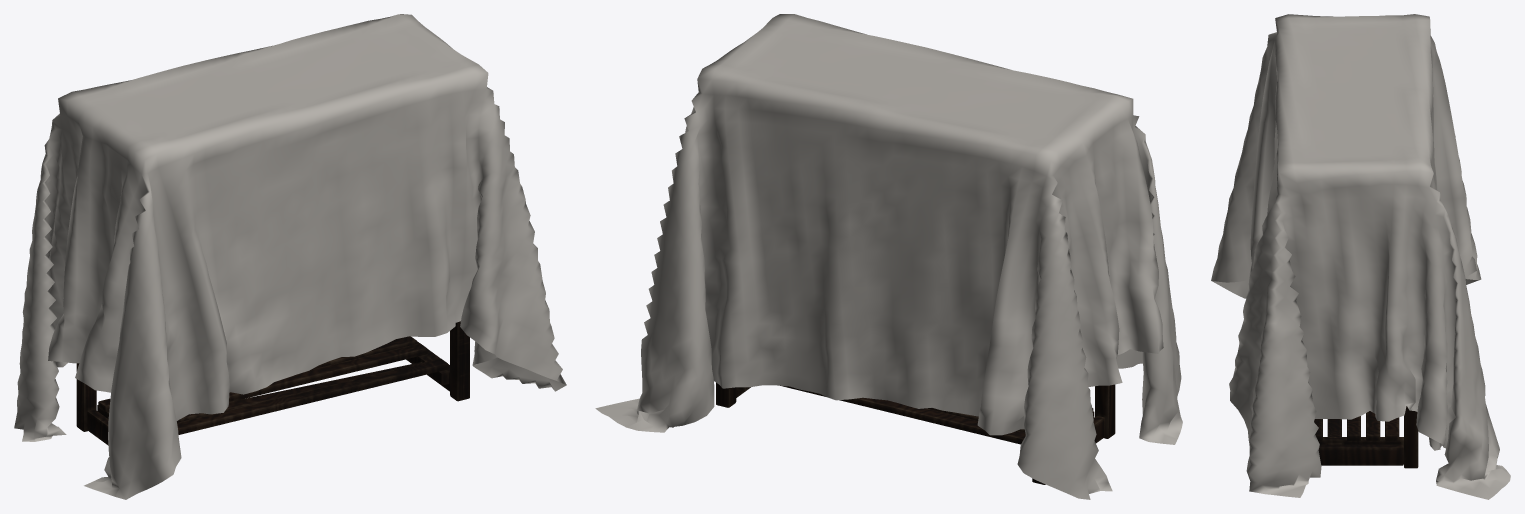
File: shoe_rack.glb
3 renders of one model, left to right at view 1: azimuth 30°, elevation 25°; view 2: azimuth 150°, elevation 25°; view 3: azimuth 270°, elevation 25°, orthographic. The views are drawn at different scales.
Parts seen in each view (by area): view 1: Drape, Rack; view 2: Drape, Rack; view 3: Drape, Rack.
Part boxes in pixels (bbox=[...]): Drape: bbox=[14, 14, 566, 499]; Rack: bbox=[76, 321, 469, 445]; Drape: bbox=[595, 14, 1182, 499]; Rack: bbox=[716, 382, 1115, 484]; Drape: bbox=[1211, 14, 1510, 499]; Rack: bbox=[1314, 406, 1418, 468].
Bounding box in the file's own units: 1.23 × 0.8421 × 0.7462.
Materials: 2 (1 with a texture image).
